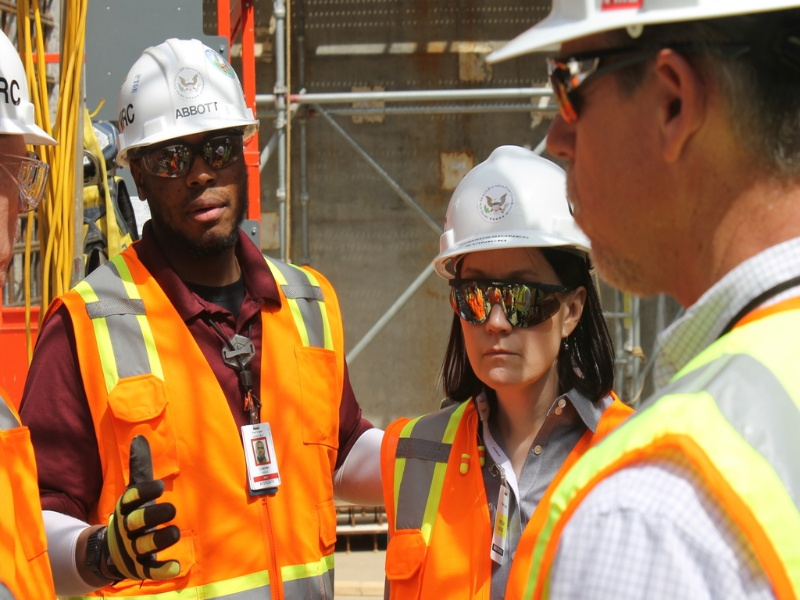Baret: (433, 159, 599, 283), (115, 37, 260, 152)
